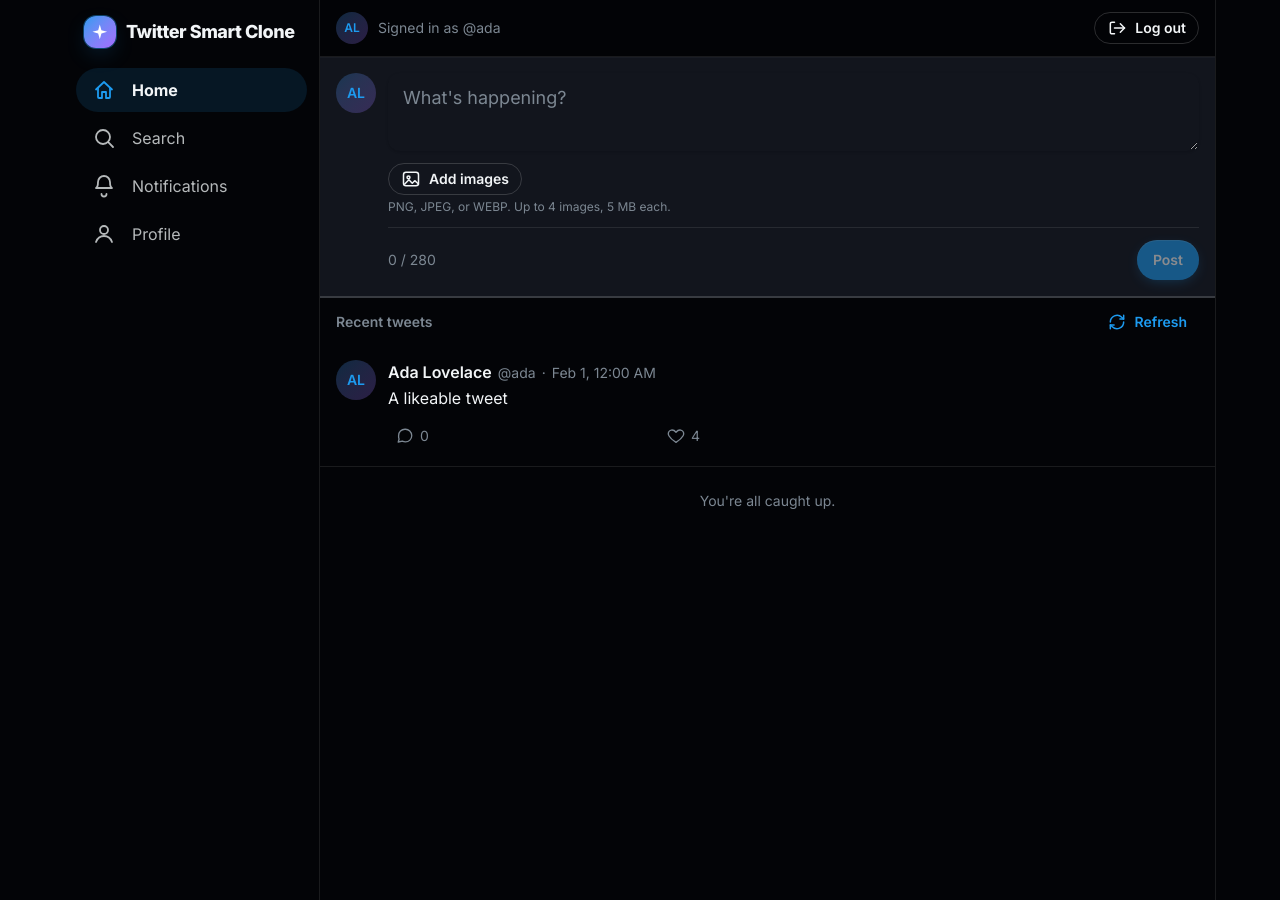
Test case: LikeButton › fully rolls back the optimistic update and shows an accessible error when the request fails
The image size is (1280, 900).
Click the button named "Like, 4 likes": [684, 436] box [659,420,708,452]
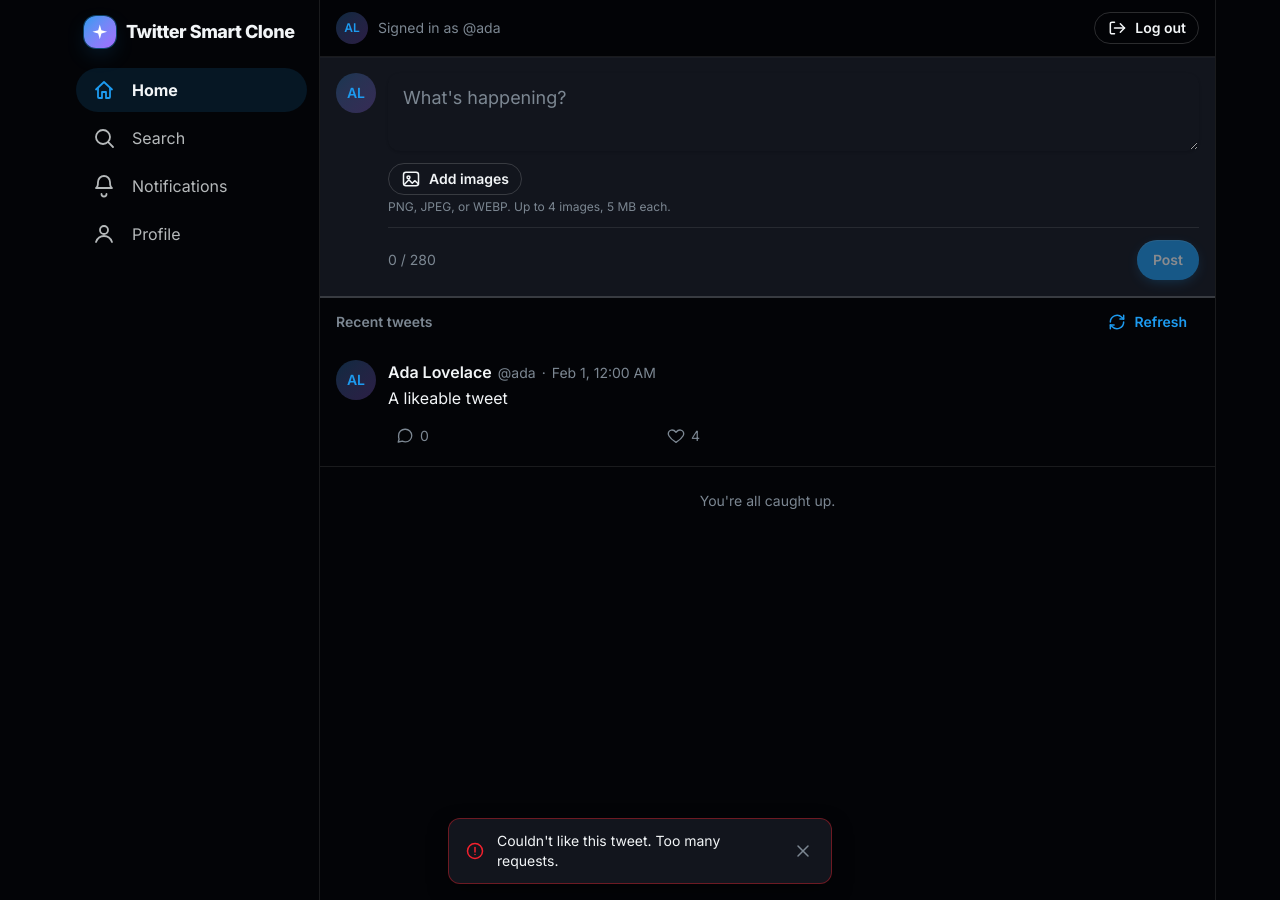
Expected: the message shows "Couldn't like this tweet.", [497,832,720,869]
Expected: the message shows "Too many requests.", [497,832,720,869]
